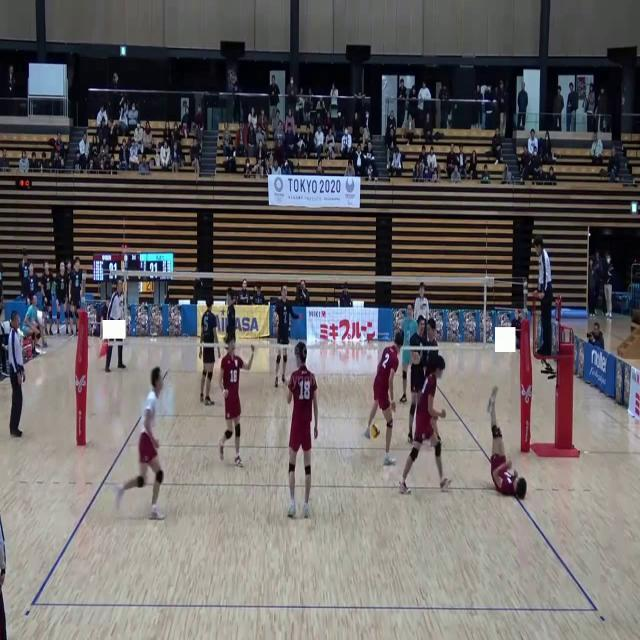volleyball: (370, 424, 380, 439)
